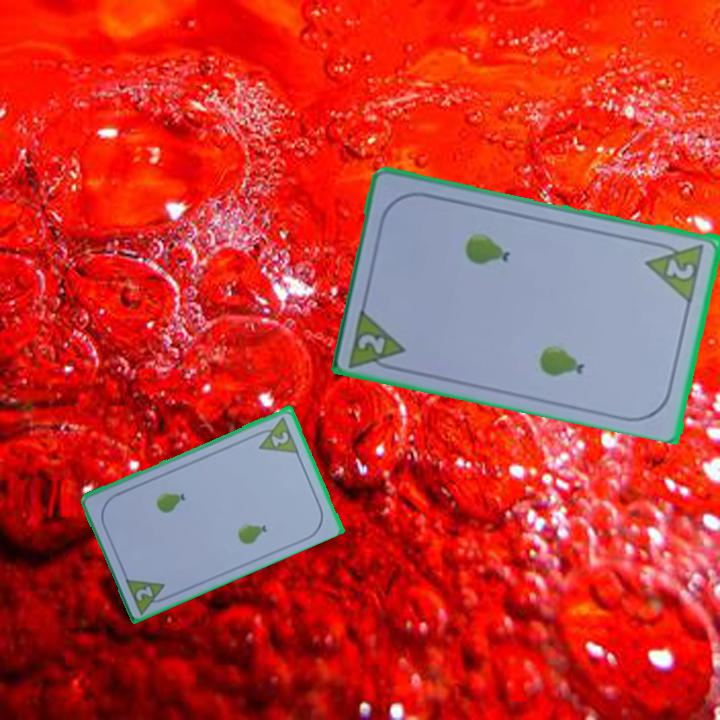2p: (345, 303, 410, 375), (643, 237, 708, 303), (121, 573, 174, 616), (251, 412, 301, 456)
